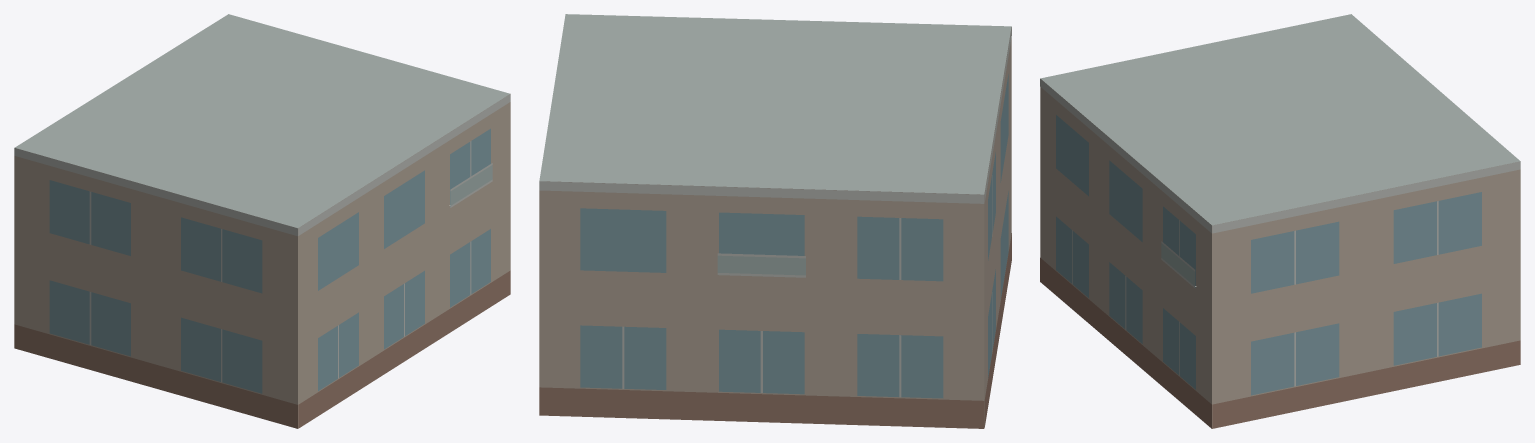
The model's file is survey-upis-32705152.glb.
3 renders of one model, left to right at view 1: azimuth 30°, elevation 25°; view 2: azimuth 150°, elevation 25°; view 3: azimuth 270°, elevation 25°, orthographic. The views are drawn at different scales.
Visible parts, largest first — view 1: survey-upis-32705152.tmp; view 2: survey-upis-32705152.tmp; view 3: survey-upis-32705152.tmp.
Boxes of the visible parts, left/top/right/bottom form: survey-upis-32705152.tmp: left=14, top=14, right=510, bottom=428; survey-upis-32705152.tmp: left=539, top=14, right=1011, bottom=428; survey-upis-32705152.tmp: left=1040, top=14, right=1520, bottom=428.
Size of the model in its own units: 13.61 by 6.1 by 13.07.
